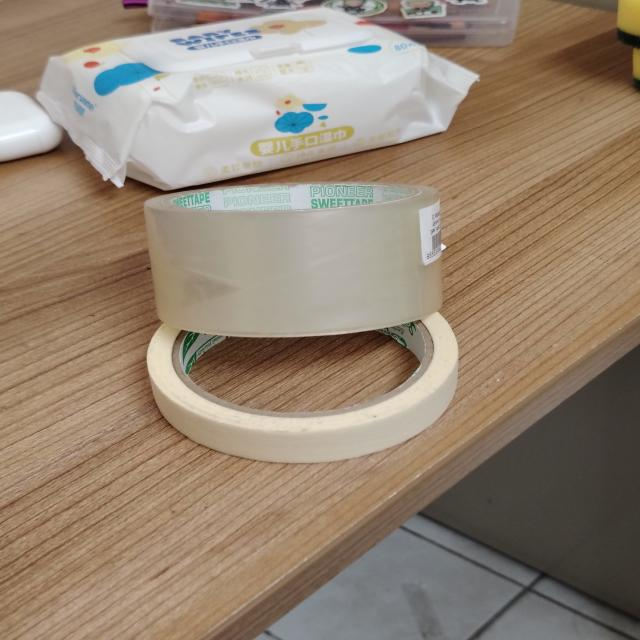tape: (147, 313, 458, 463), (144, 183, 442, 337)
